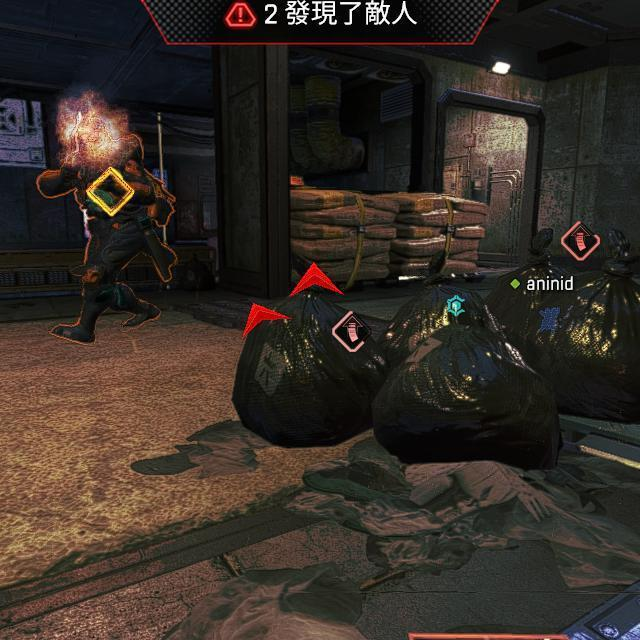avatar: (38, 132, 177, 346)
object: (85, 166, 135, 218)
